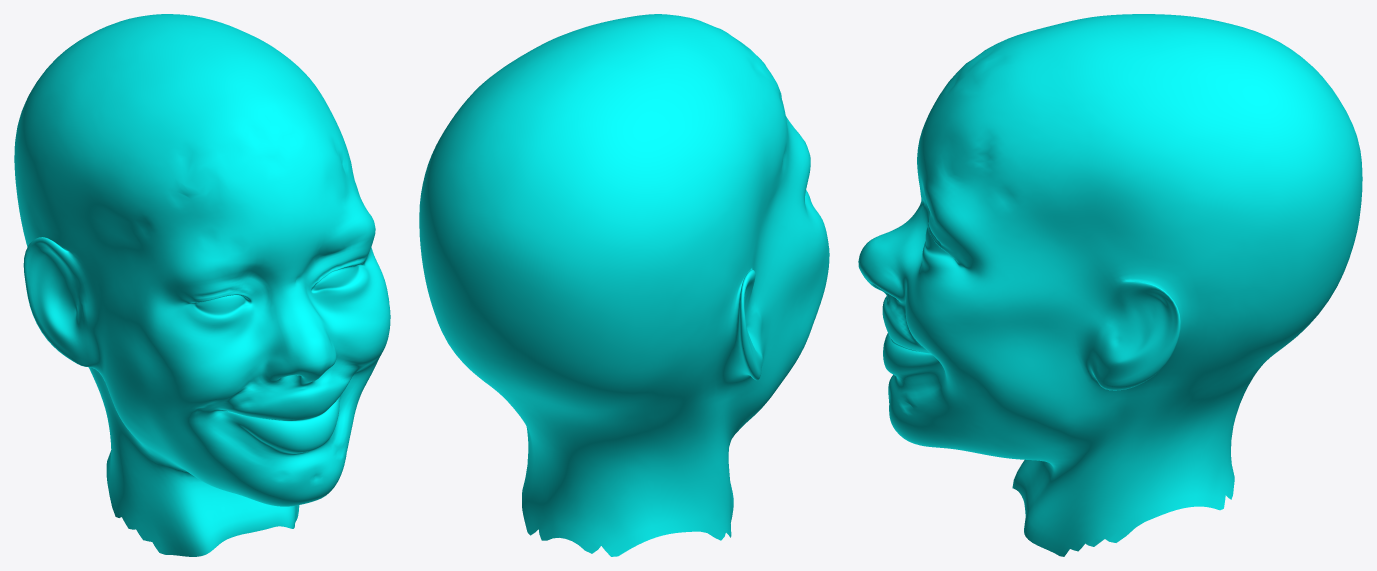
The model's file is head-transformed.glb.
3 renders of one model, left to right at view 1: azimuth 30°, elevation 25°; view 2: azimuth 150°, elevation 25°; view 3: azimuth 270°, elevation 25°, orthographic. The views are drawn at different scales.
Visible parts, largest first — view 1: FaceBuilderHead.002; view 2: FaceBuilderHead.002; view 3: FaceBuilderHead.002.
Part boxes in pixels (x1=…): FaceBuilderHead.002: x1=14, y1=14, x2=390, y2=556; FaceBuilderHead.002: x1=419, y1=14, x2=829, y2=556; FaceBuilderHead.002: x1=858, y1=14, x2=1362, y2=556.
Bounding box in the file's own units: 1.96 × 2.91 × 2.69.
